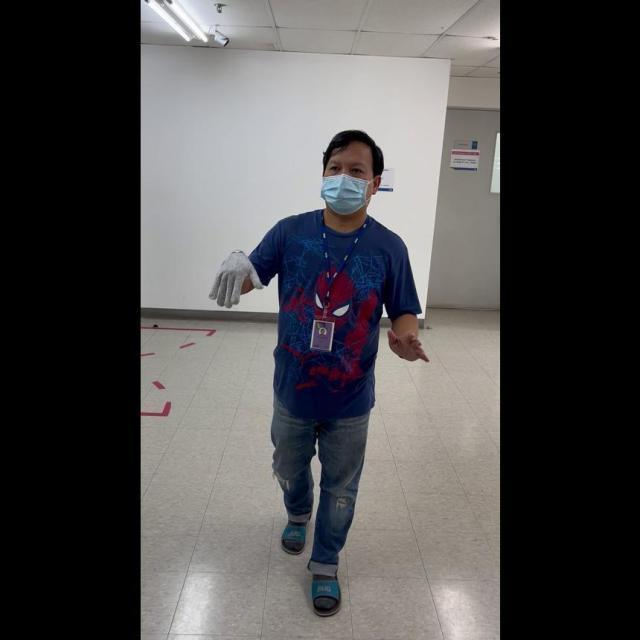bare_hand: (385, 322, 429, 365)
gloved_hand: (208, 243, 268, 310)
